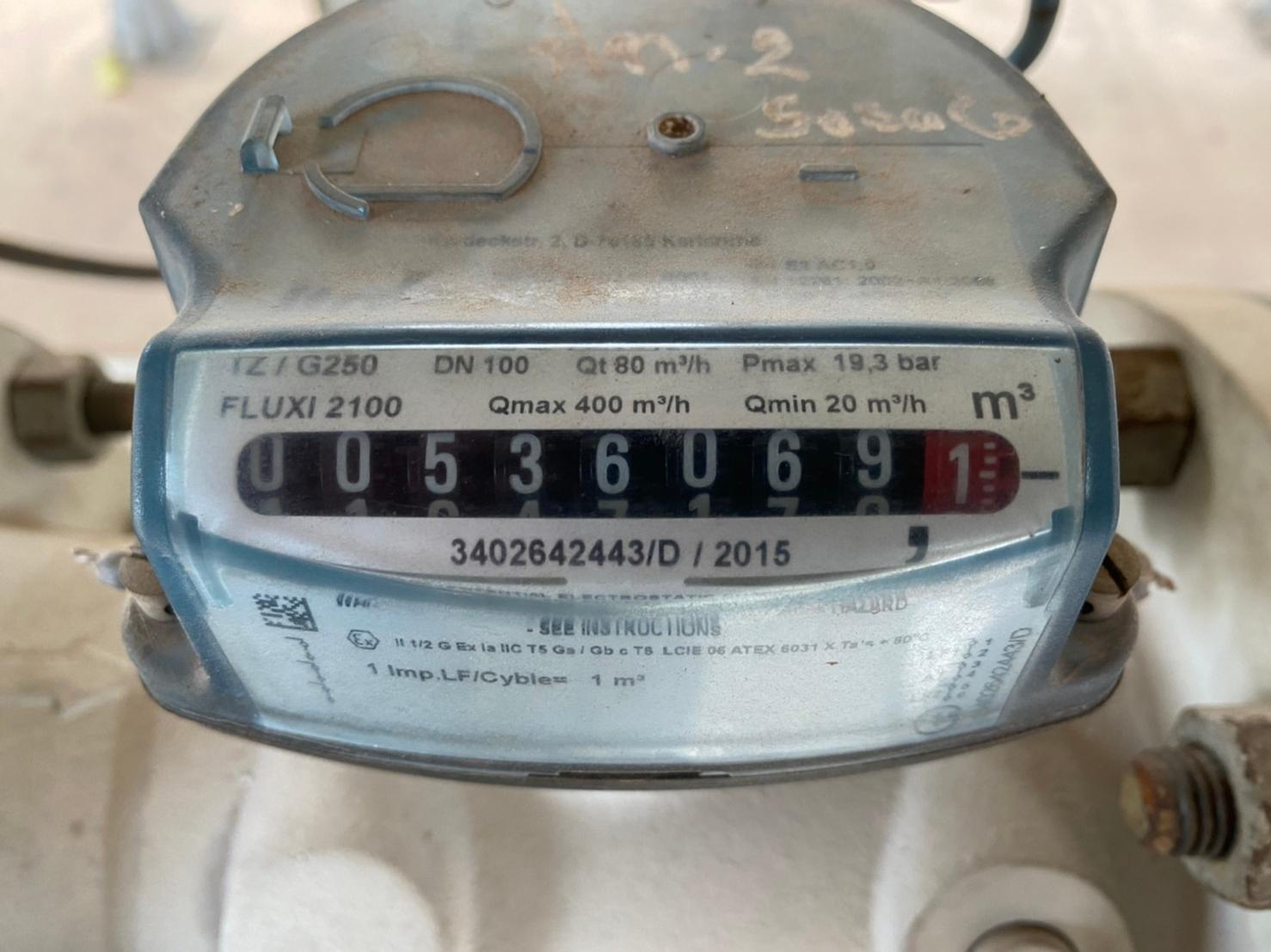analog_dial: (226, 420, 1064, 537)
